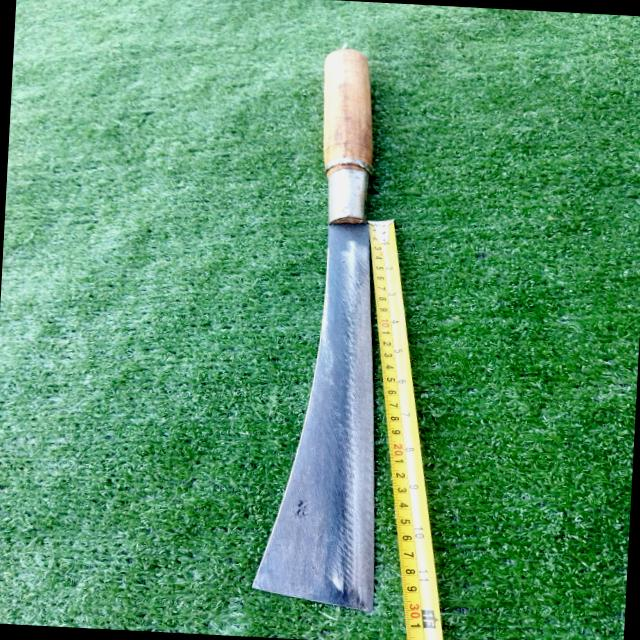eto: (232, 40, 392, 626)
